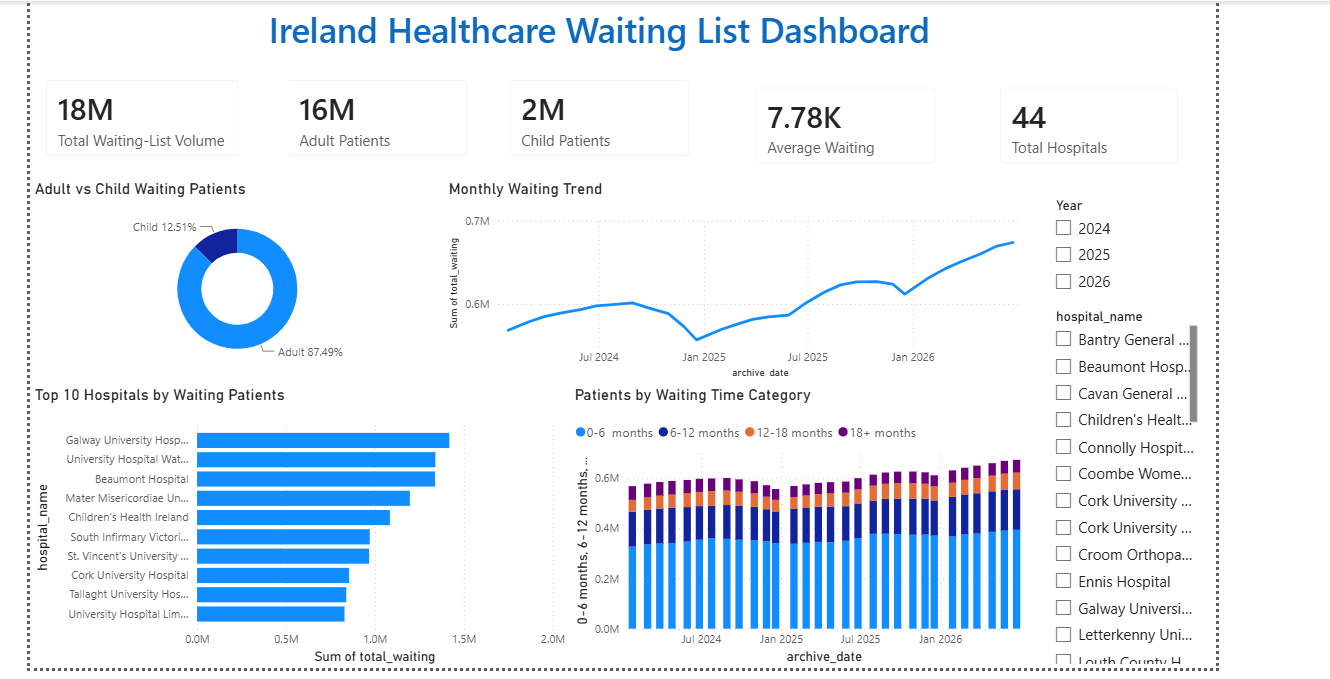

The page's visual inventory and layout, read from the dashboard file:
{"tool":"powerbi","page":{"name":"Page 1","canvas":[1280,720],"ordinal":0},"visuals":[{"type":"cardVisual","fields":{"Data":["public waiting_list.Total Hospitals"]},"box":[1029.8,76.1,226,116],"z":0},{"type":"cardVisual","fields":{"Data":["public waiting_list.Child Patients"]},"box":[500.3,68,228,116],"z":1000},{"type":"cardVisual","fields":{"Data":["public waiting_list.Adult Patients"]},"box":[260.7,68,228,116],"z":2000},{"type":"cardVisual","fields":{"Data":["public waiting_list.Average Waiting Patients"]},"box":[765.9,76.1,228,116],"z":3000},{"type":"lineChart","title":"Monthly Waiting Trend","fields":{"Category":["public waiting_list.archive_date"],"Y":["Sum(public waiting_list.total_waiting)"]},"box":[446.9,192.7,642.8,218.6],"z":4000},{"type":"clusteredBarChart","title":"Top 10 Hospitals by Waiting Patients","fields":{"Category":["public waiting_list.hospital_name"],"Y":["Sum(public waiting_list.total_waiting)"]},"box":[0,414.5,582.9,306],"z":5000},{"type":"donutChart","title":"Adult vs Child Waiting Patients","fields":{"Category":["public waiting_list.adult_child"],"Y":["Sum(public waiting_list.total_waiting)"]},"box":[0,192.7,446.9,205.6],"z":6000},{"type":"columnChart","title":"Patients by Waiting Time Category","fields":{"Category":["public waiting_list.archive_date"],"Y":["Sum(public waiting_list.wait_0_6_months)","Sum(public waiting_list.wait_6_12_months)","Sum(public waiting_list.wait_12_18_months)","Sum(public waiting_list.wait_18_plus_months)"]},"box":[582.9,414.5,511.7,306],"z":7000},{"type":"slicer","fields":{"Values":["public waiting_list.archive_date.Variation.Date Hierarchy.Year"]},"box":[1094.6,207.3,171,120],"z":8000},{"type":"slicer","fields":{"Values":["public waiting_list.hospital_name"]},"box":[1094,327.1,170,393],"z":9000},{"type":"textbox","box":[173.3,0,882.5,79.3],"z":10000},{"type":"cardVisual","fields":{"Data":["Sum(public waiting_list.total_waiting)"]},"box":[13,68,228.3,116.6],"z":11000}]}

Visuals, with their boxes on the page's 1280x720 design canvas (x1, y1, x2, y2). These are canvas units, not pixel positions in the 1330x679 screenshot, which may show the page scaled, cropped or inside an application window:
cardVisual - public waiting_list.Total Hospitals: crop(1030, 76, 1256, 192)
cardVisual - public waiting_list.Child Patients: crop(500, 68, 728, 184)
cardVisual - public waiting_list.Adult Patients: crop(261, 68, 489, 184)
cardVisual - public waiting_list.Average Waiting Patients: crop(766, 76, 994, 192)
"Monthly Waiting Trend" lineChart: crop(447, 193, 1090, 411)
"Top 10 Hospitals by Waiting Patients" clusteredBarChart: crop(0, 414, 583, 720)
"Adult vs Child Waiting Patients" donutChart: crop(0, 193, 447, 398)
"Patients by Waiting Time Category" columnChart: crop(583, 414, 1095, 720)
slicer - public waiting_list.archive_date.Variation.Date Hierarchy.Year: crop(1095, 207, 1266, 327)
slicer - public waiting_list.hospital_name: crop(1094, 327, 1264, 720)
textbox: crop(173, 0, 1056, 79)
cardVisual - Sum(public waiting_list.total_waiting): crop(13, 68, 241, 185)
